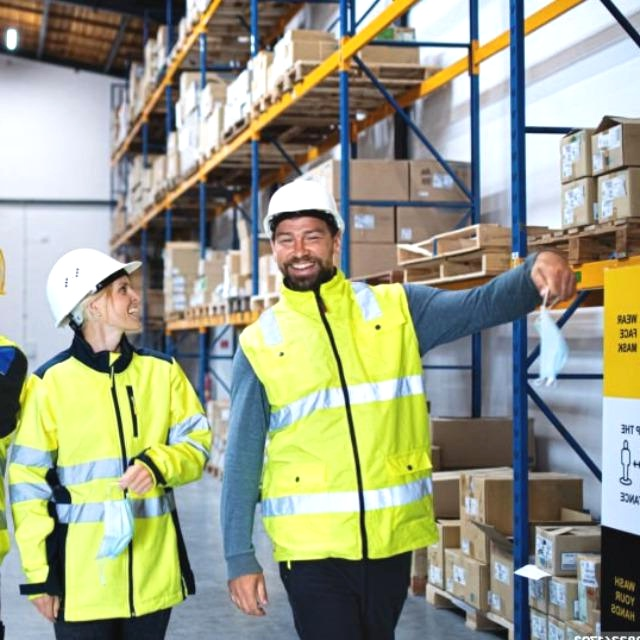Con_Chaleco: (249, 282, 426, 562), (34, 344, 185, 622)
